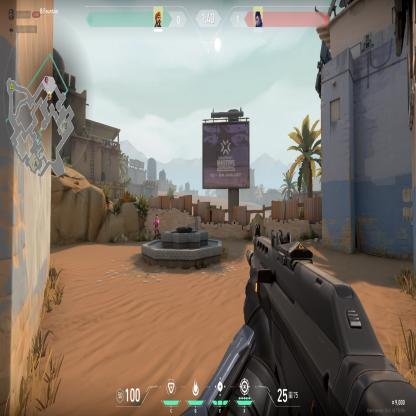enemy: (152, 212, 160, 242)
